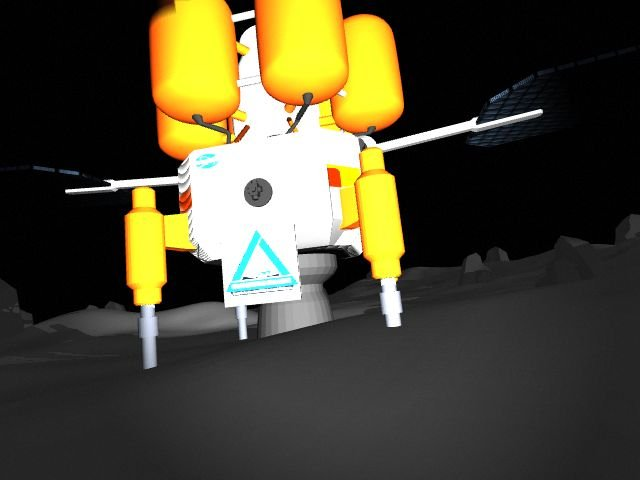basemarker: (224, 229, 299, 296)
